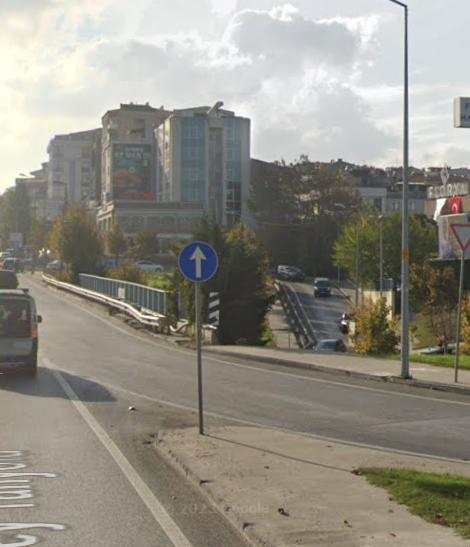forward: (175, 239, 223, 287)
